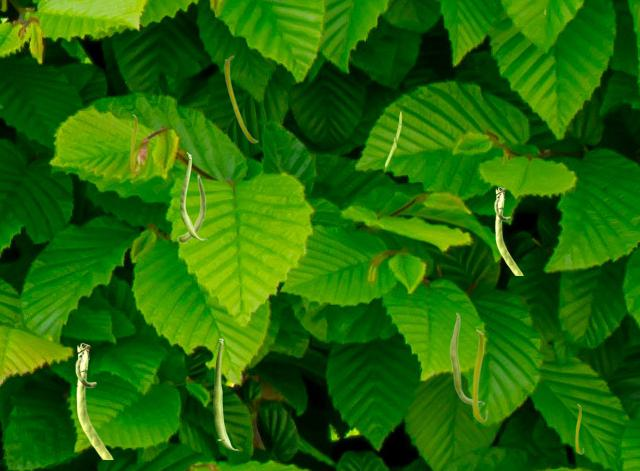french_bean: (75, 343, 112, 458), (449, 312, 484, 404), (224, 55, 257, 142), (213, 338, 238, 449), (494, 187, 522, 274), (180, 152, 206, 239), (177, 174, 205, 242), (472, 329, 486, 421), (384, 110, 401, 173), (130, 114, 138, 173), (575, 404, 582, 453)
